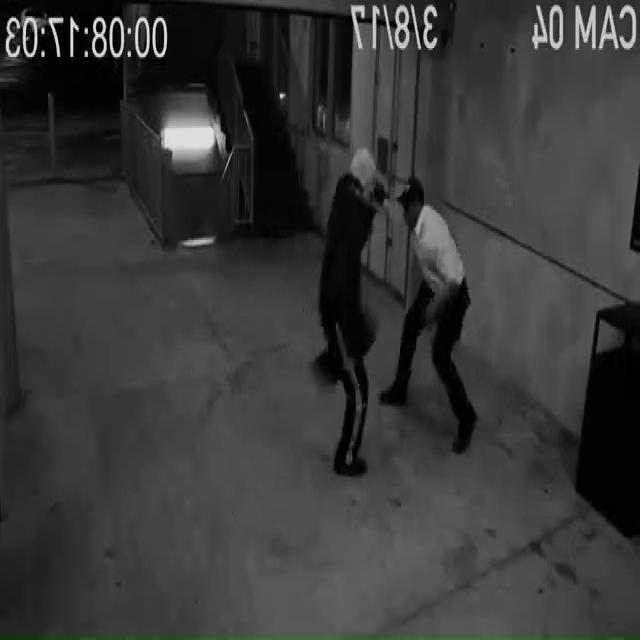fight: (312, 145, 476, 482)
